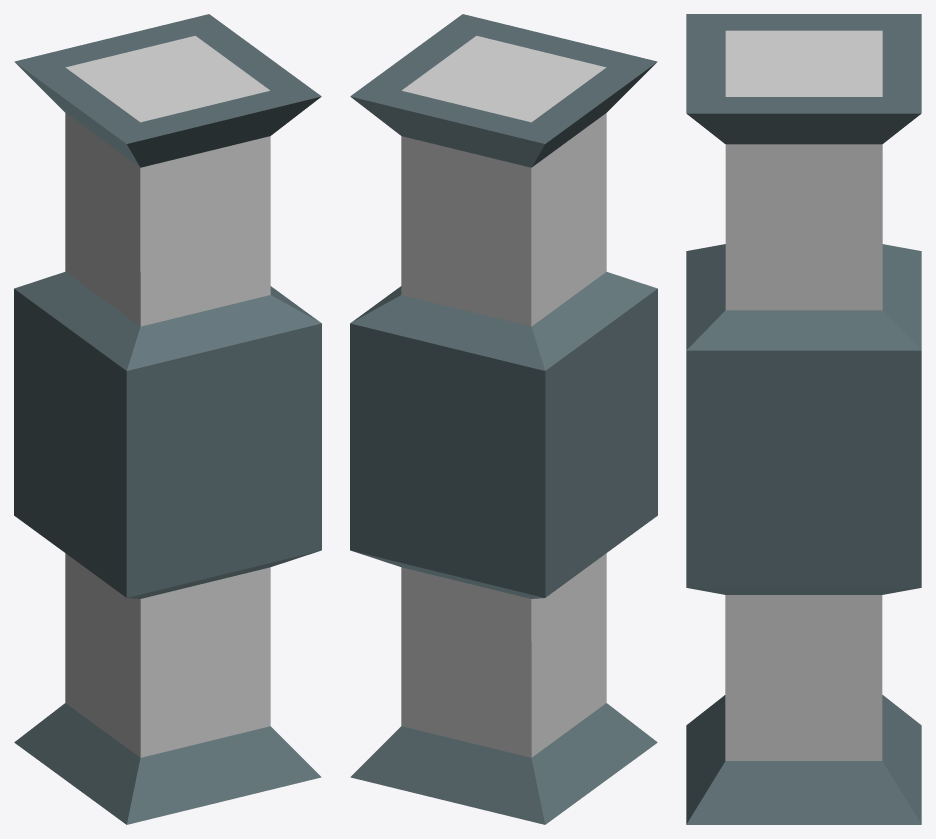
File: scifi_column.fbx
The picture shows the model from 3 angles, left to right: view 1: azimuth 30°, elevation 25°; view 2: azimuth 150°, elevation 25°; view 3: azimuth 270°, elevation 25°; orthographic projection. The views are drawn at different scales.
Parts seen in each view (by area): view 1: Cube.004; view 2: Cube.004; view 3: Cube.004.
Boxes of the visible parts, x1,y1,x2,y2 form: Cube.004: (14,14,321,824); Cube.004: (350,14,657,824); Cube.004: (686,14,921,824).
Size of the model in its own units: 0.9 by 3 by 0.9.
